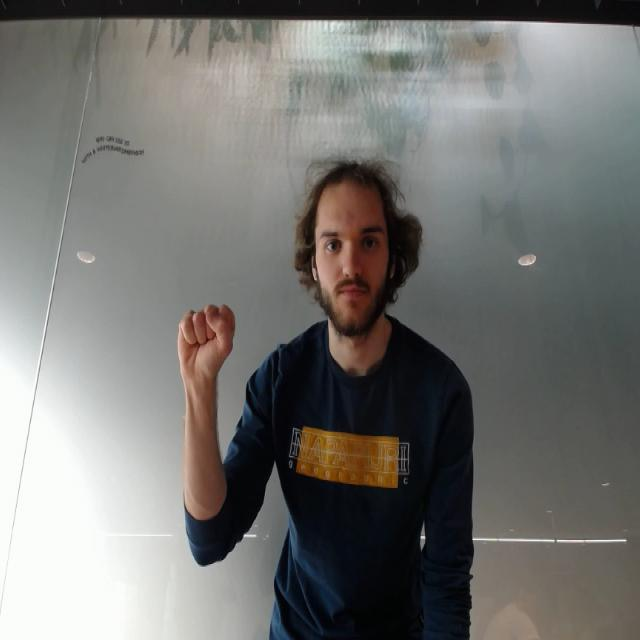stop: (175, 305, 237, 368)
